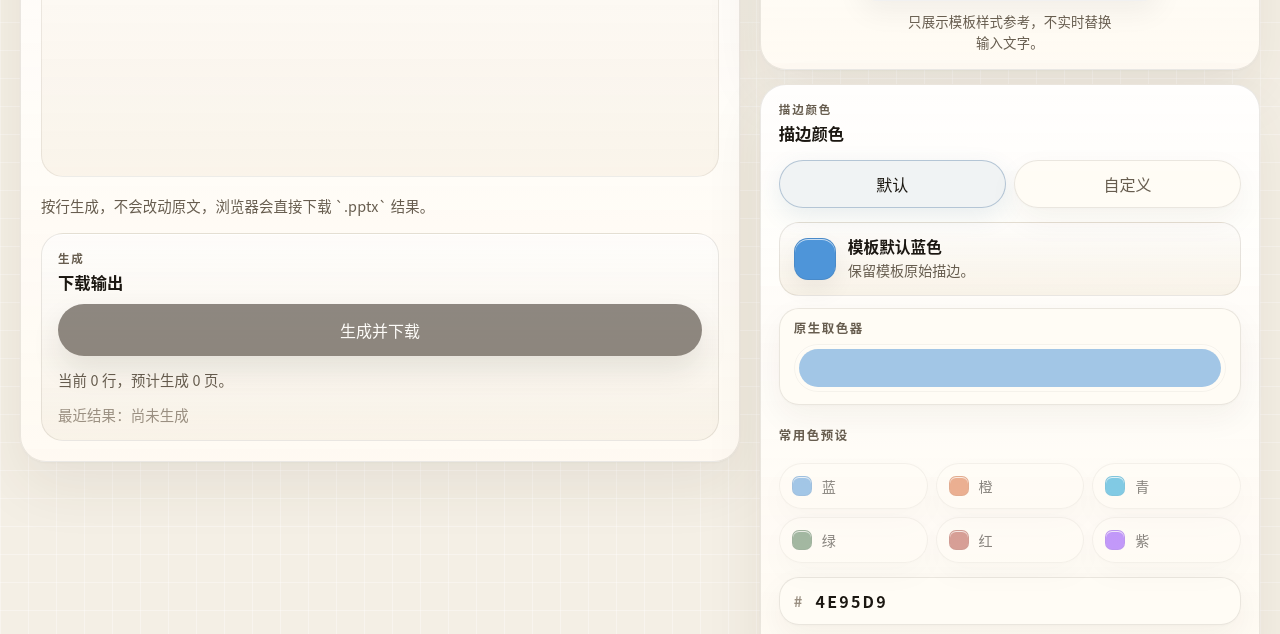
App › syncs the hex input into the native color picker
(page scrolled)
Click the button "自定义" at (1127, 183), box [1014,159,1241,207]
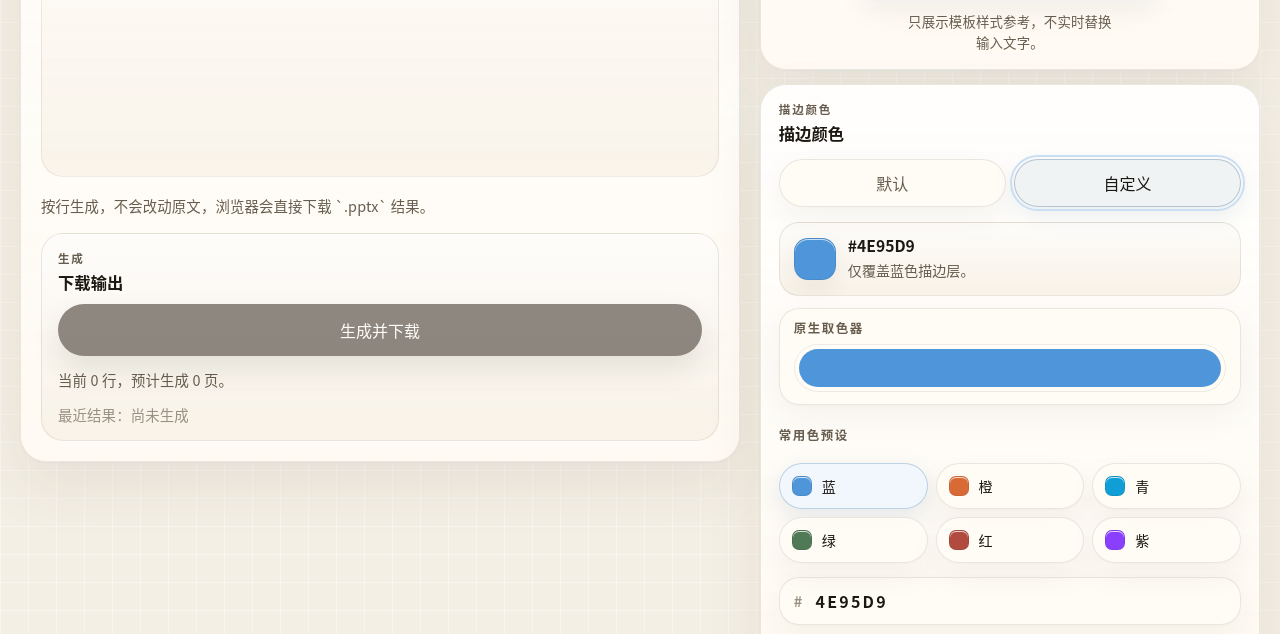
Replace the text in the field with placeholder "FF6600" with "1A8CF0" at (1020, 601), box [814,588,1226,614]
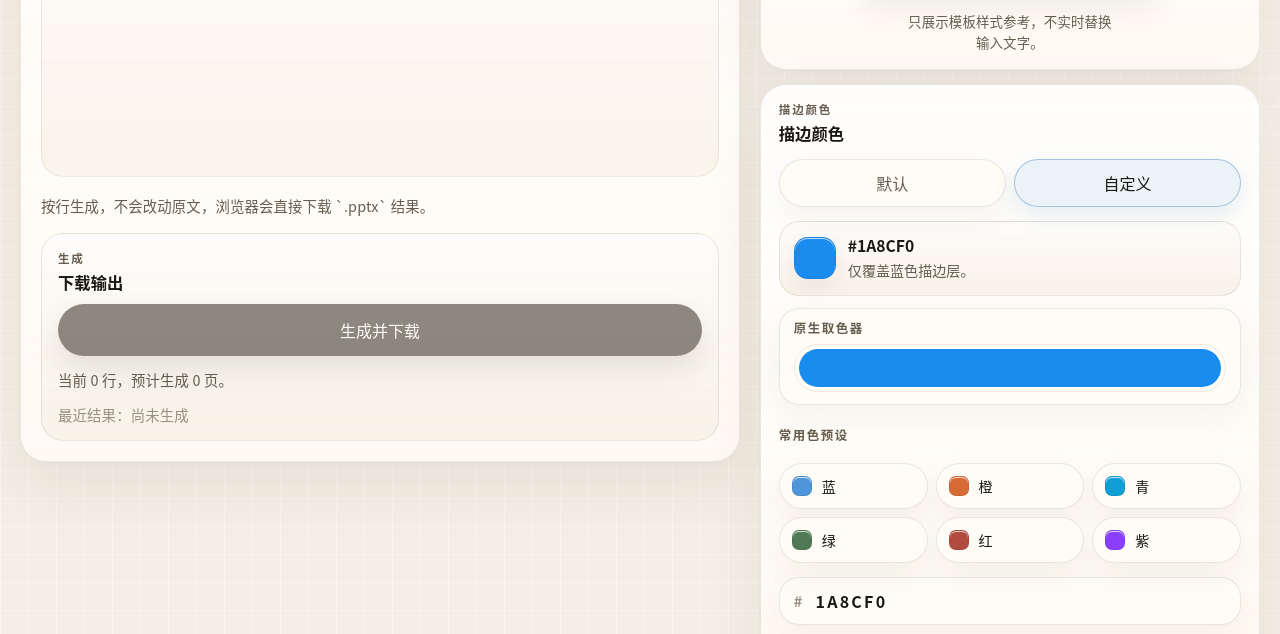
Now the text "#1A8CF0" is shown, box [848,234,914,257]
